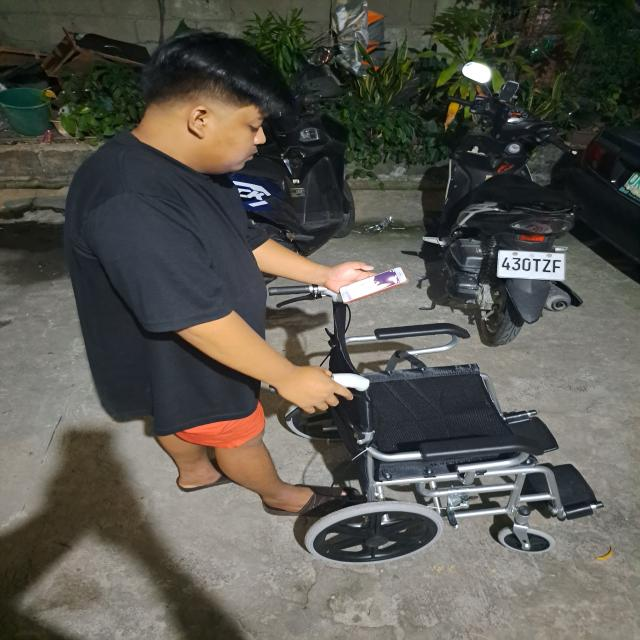wheelchairs: (262, 282, 607, 563)
